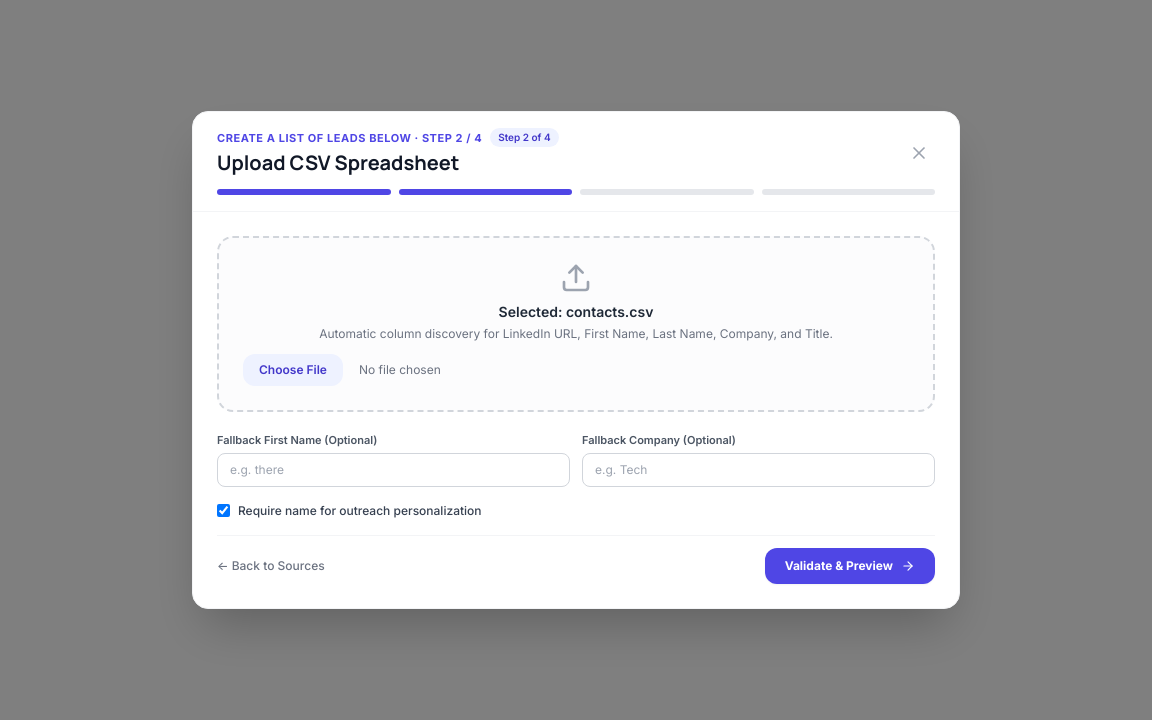
direct lead intake review parity › holds a late preview response after the sign-in token changes
The image size is (1152, 720).
Earlier steps of the test are not shown.
Click the button "Validate & Preview".
click(850, 566)  # box [765,548,935,584]
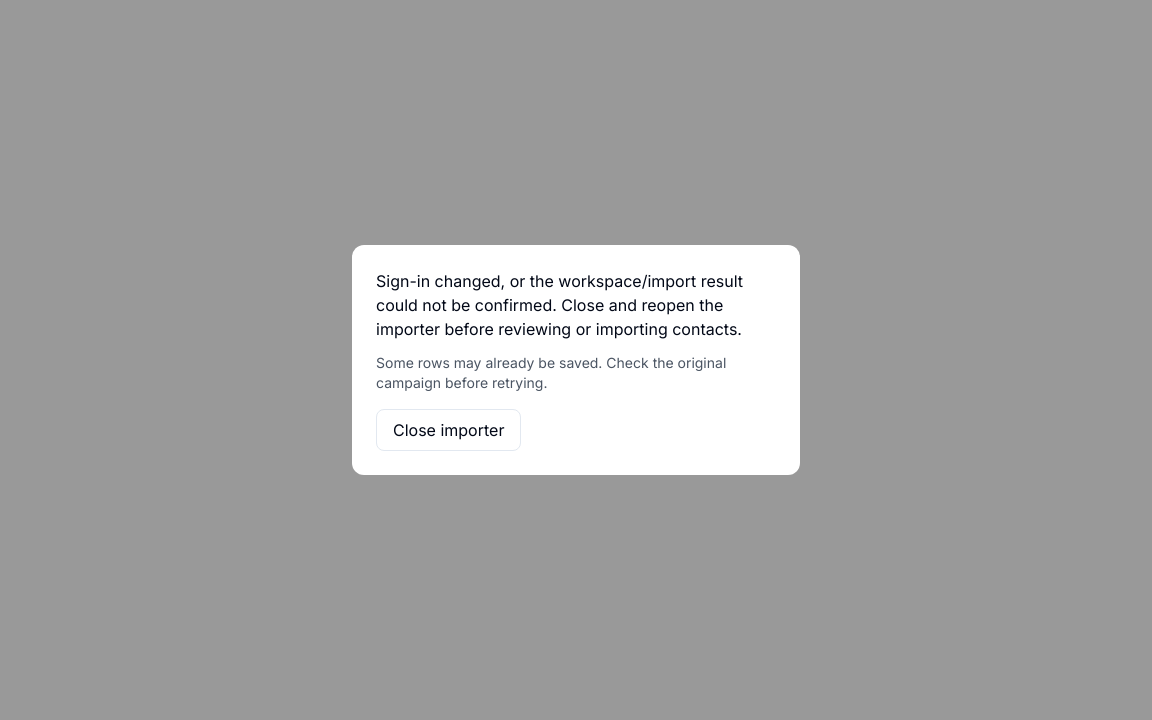
Result: the text "Sign-in changed" is shown at [376,271,743,339]
